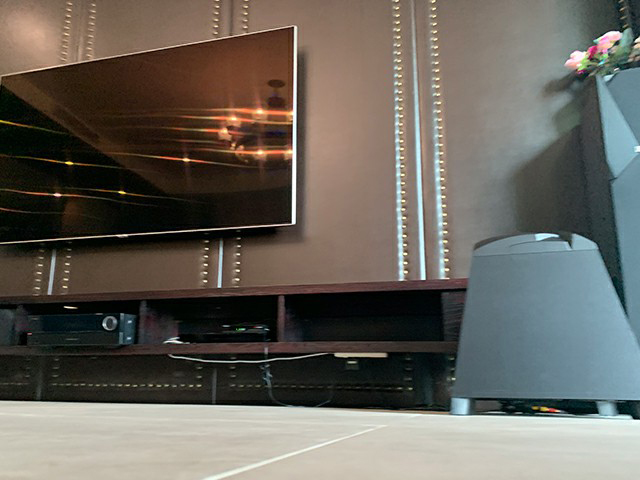cabinet: (1, 278, 467, 409)
wire: (258, 356, 334, 409)
